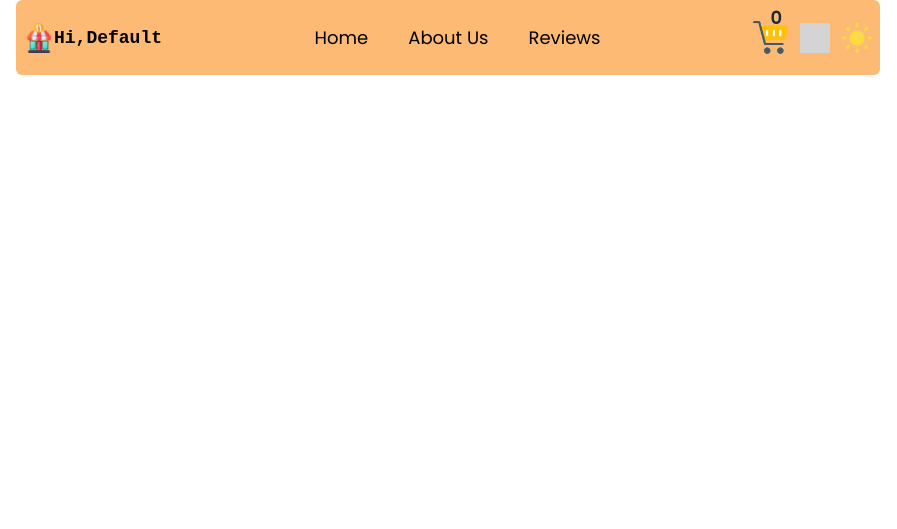
it: Test Header Component › Should going to cart page when i click cart image
The width and height of the screenshot is (897, 529).
Click the picture with alt text "cartImg" at (770, 38), box left=753, top=20, right=788, bottom=55
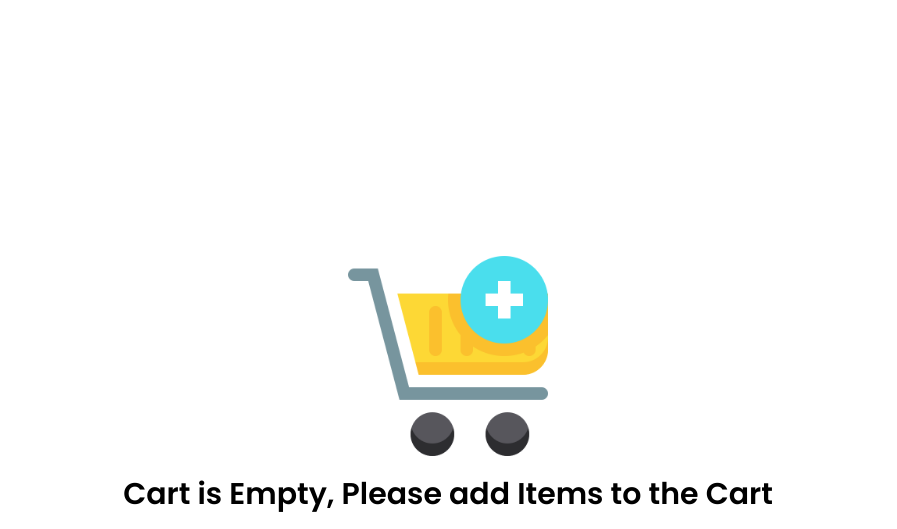
Expected: the heading "Cart is Empty, Please add Items to the Cart" is shown, left=123, top=476, right=773, bottom=512
